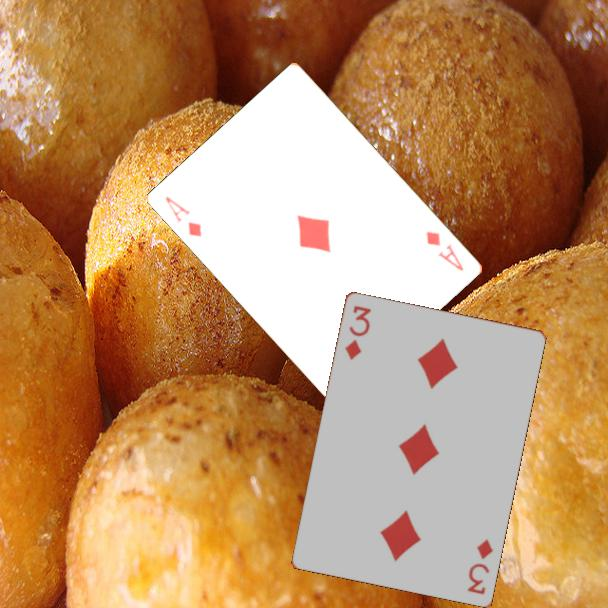d01: (423, 227, 467, 274), (162, 193, 205, 240)
d03: (341, 301, 374, 363), (464, 535, 496, 597)
